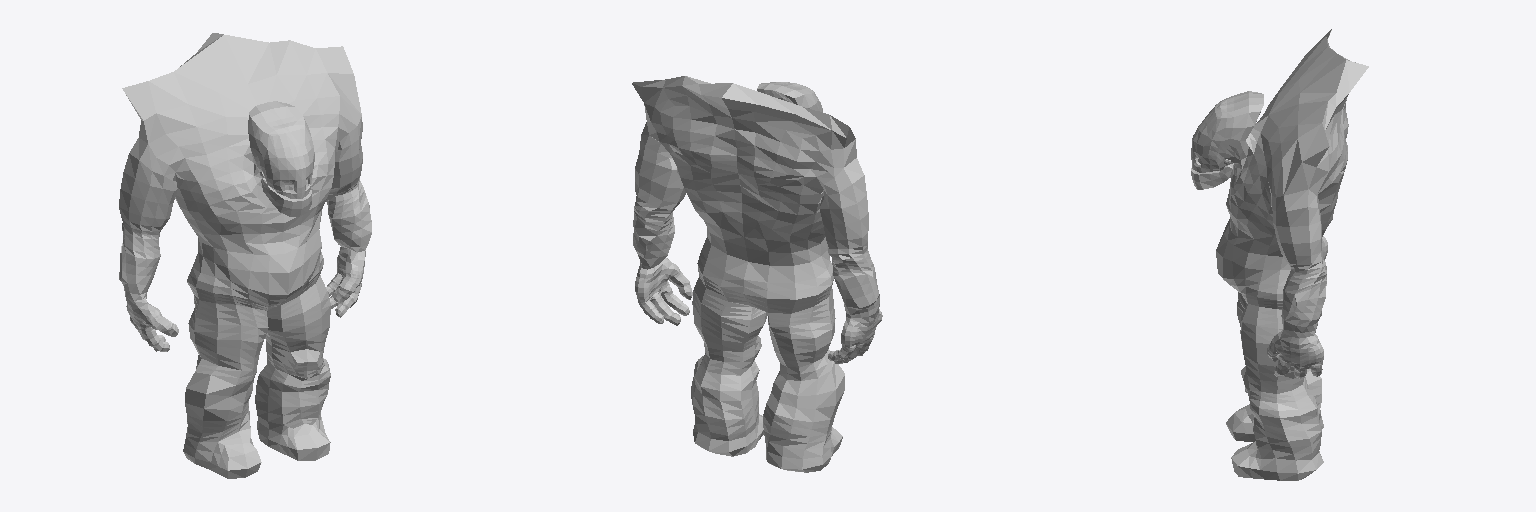
Rendered from golem_000020.obj.
3 views of the same model, side by side, from view 1: azimuth 30°, elevation 25°; view 2: azimuth 150°, elevation 25°; view 3: azimuth 270°, elevation 25° (orthographic).
Parts seen in each view (by area): view 1: golem; view 2: golem; view 3: golem.
Boxes of the visible parts, x1,y1,x2,y2 form: golem: [119, 33, 371, 478]; golem: [632, 76, 882, 472]; golem: [1191, 29, 1368, 480].
Bounding box in the file's own units: 7.35 × 11.27 × 4.65.